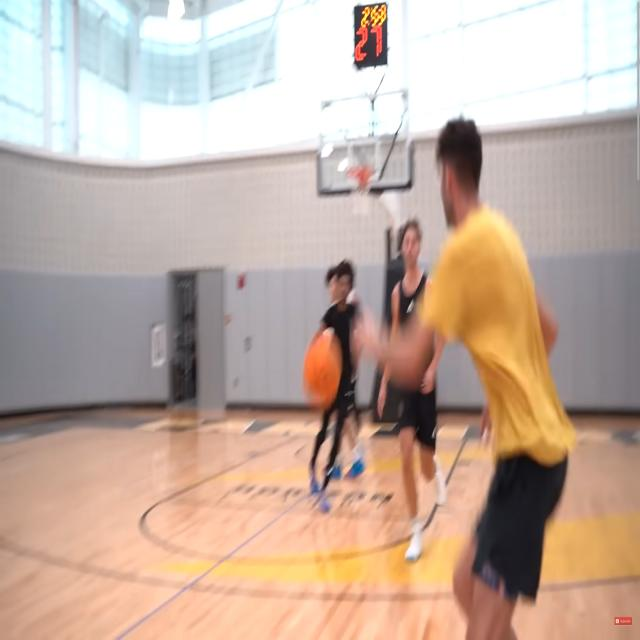Basketball: (303, 334, 343, 408)
Basketball Rim: (344, 166, 375, 215)
Player: (352, 109, 574, 640), (376, 222, 451, 570), (312, 265, 368, 516)
